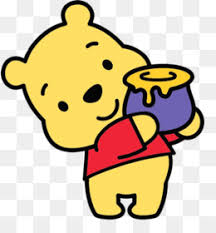Winnie: (1, 4, 195, 162)
